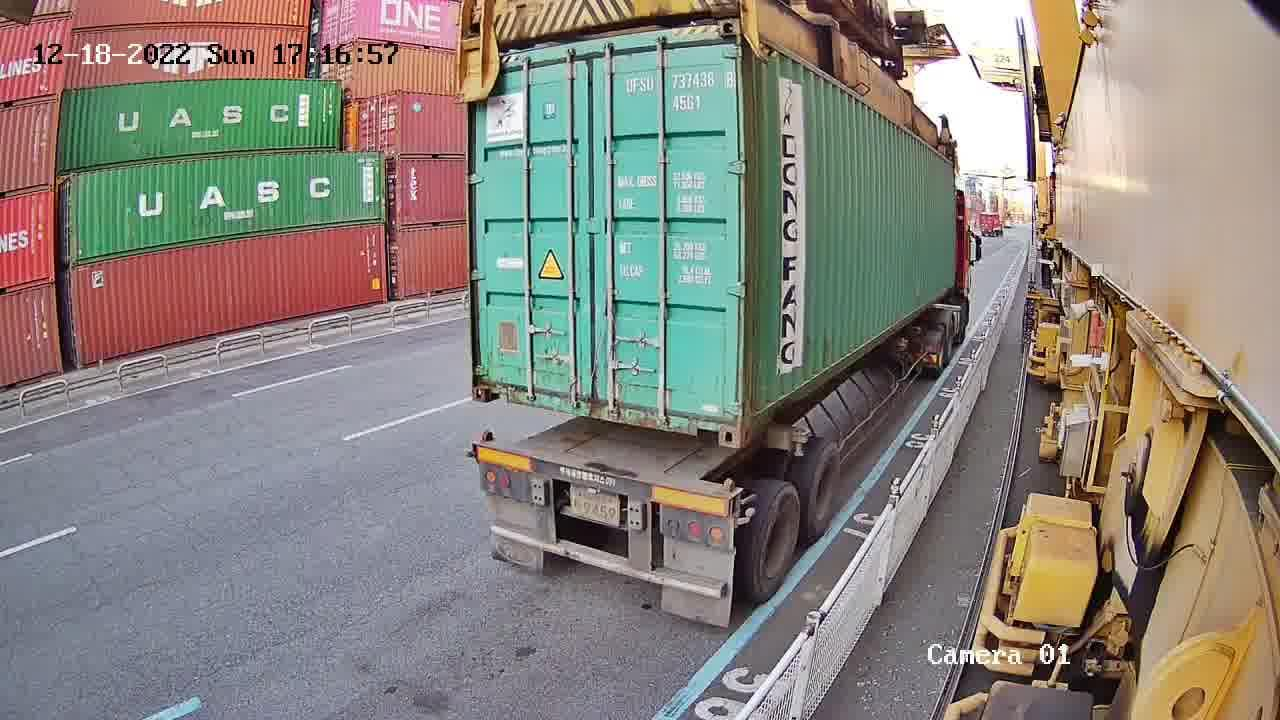Chassis: (475, 441, 744, 517)
Cone: (718, 473, 740, 517), (475, 427, 496, 463)
Hole_L: (743, 374, 779, 447), (471, 359, 514, 406)
Hole_R: (692, 390, 744, 447)
Tire: (753, 489, 802, 595), (810, 447, 844, 531)
